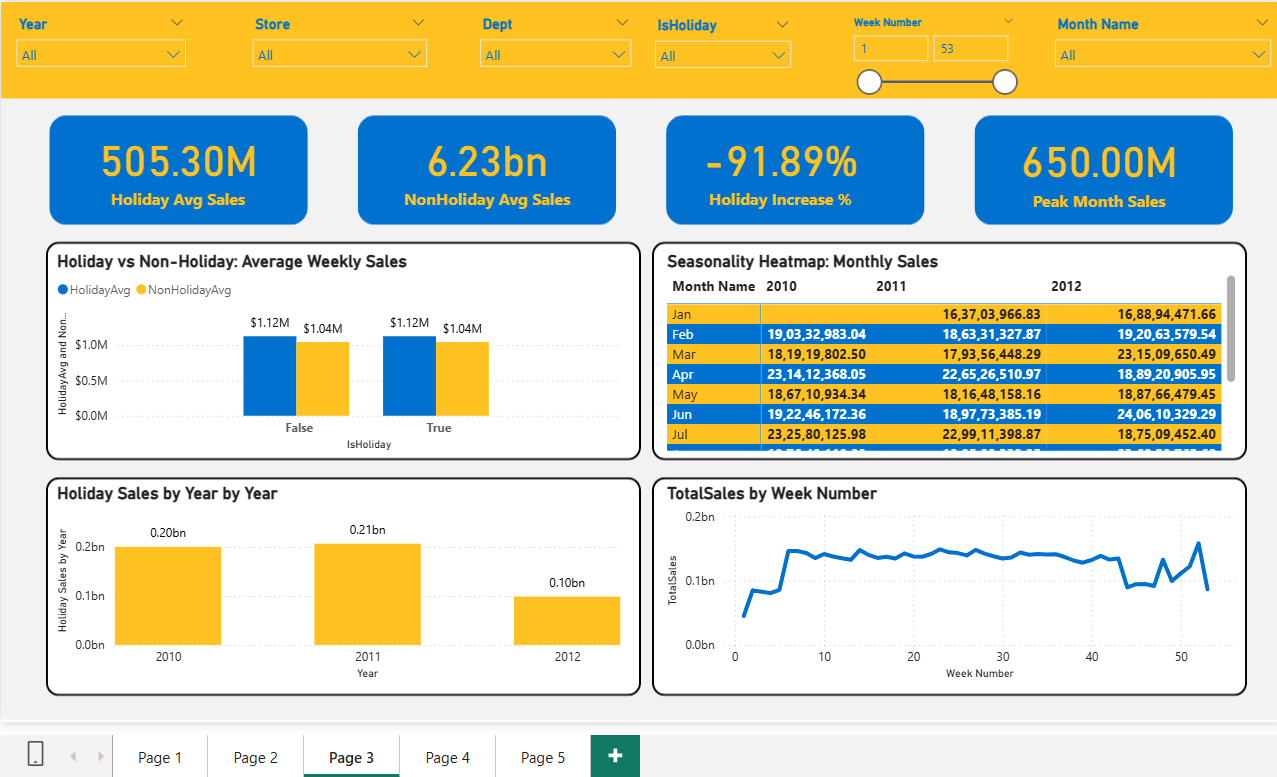

The page's visual inventory and layout, read from the dashboard file:
{"tool":"powerbi","page":{"name":"Page 3","canvas":[1280,720],"ordinal":2},"visuals":[{"type":"clusteredColumnChart","title":"Holiday vs Non-Holiday: Average Weekly Sales","fields":{"Y":["Dim_Date.HolidayAvg","Dim_Date.NonHolidayAvg"],"Category":["features.IsHoliday"]},"box":[51.7,248.3,573.3,205],"z":0},{"type":"clusteredColumnChart","fields":{"Category":["Dim_Date.Year"],"Y":["Category Parameter.Holiday Sales by Year"]},"box":[51.7,481.7,573.3,201.7],"z":1000},{"type":"lineChart","fields":{"Y":["Dim_Date.TotalSales"],"Category":["Dim_Date.Week Number"]},"box":[661.7,481.7,578.3,201.7],"z":2000},{"type":"pivotTable","title":"Seasonality Heatmap: Monthly Sales","fields":{"Rows":["Dim_Date.Month Name"],"Columns":["Dim_Date.Year"],"Values":["Dim_Date.TotalSales"]},"box":[661.7,248.3,578.3,205],"z":3000},{"type":"slicer","fields":{"Values":["Dim_Date.Year"]},"box":[5,8.3,190,65],"z":4000},{"type":"slicer","fields":{"Values":["stores.Store"]},"box":[241.7,8.3,195,65],"z":5000},{"type":"slicer","fields":{"Values":["train.Dept"]},"box":[468.3,8.3,171.7,65],"z":6000},{"type":"slicer","fields":{"Values":["features.IsHoliday"]},"box":[643.3,10,156.7,65],"z":7000},{"type":"slicer","fields":{"Values":["Dim_Date.Week Number"]},"box":[840,8.3,185,85],"z":8000},{"type":"slicer","fields":{"Values":["Dim_Date.Month Name"]},"box":[1043.3,8.3,236.7,65],"z":9000},{"type":"card","fields":{"Values":["Category Parameter.Holiday Avg Sales"]},"box":[63.3,116.7,226.7,98.3],"z":10000},{"type":"card","fields":{"Values":["Category Parameter.NonHoliday Avg Sales"]},"box":[371.7,111.7,230,108.3],"z":11000},{"type":"card","fields":{"Values":["Category Parameter.Holiday Increase %"]},"box":[693.3,116.7,171.7,98.3],"z":12000},{"type":"card","fields":{"Values":["Category Parameter.Peak Month Sales"]},"box":[985,110,226.7,113.3],"z":13000}]}

Visuals, with their boxes on the page's 1280x720 design canvas (x1, y1, x2, y2). These are canvas units, not pixel positions in the 1277x777 screenshot, which may show the page scaled, cropped or inside an application window:
"Holiday vs Non-Holiday: Average Weekly Sales" clusteredColumnChart: pyautogui.locateOnScreen(52, 248, 625, 453)
clusteredColumnChart - Dim_Date.Year x Category Parameter.Holiday Sales by Year: pyautogui.locateOnScreen(52, 482, 625, 683)
lineChart - Dim_Date.TotalSales x Dim_Date.Week Number: pyautogui.locateOnScreen(662, 482, 1240, 683)
"Seasonality Heatmap: Monthly Sales" pivotTable: pyautogui.locateOnScreen(662, 248, 1240, 453)
slicer - Dim_Date.Year: pyautogui.locateOnScreen(5, 8, 195, 73)
slicer - stores.Store: pyautogui.locateOnScreen(242, 8, 437, 73)
slicer - train.Dept: pyautogui.locateOnScreen(468, 8, 640, 73)
slicer - features.IsHoliday: pyautogui.locateOnScreen(643, 10, 800, 75)
slicer - Dim_Date.Week Number: pyautogui.locateOnScreen(840, 8, 1025, 93)
slicer - Dim_Date.Month Name: pyautogui.locateOnScreen(1043, 8, 1280, 73)
card - Category Parameter.Holiday Avg Sales: pyautogui.locateOnScreen(63, 117, 290, 215)
card - Category Parameter.NonHoliday Avg Sales: pyautogui.locateOnScreen(372, 112, 602, 220)
card - Category Parameter.Holiday Increase %: pyautogui.locateOnScreen(693, 117, 865, 215)
card - Category Parameter.Peak Month Sales: pyautogui.locateOnScreen(985, 110, 1212, 223)
